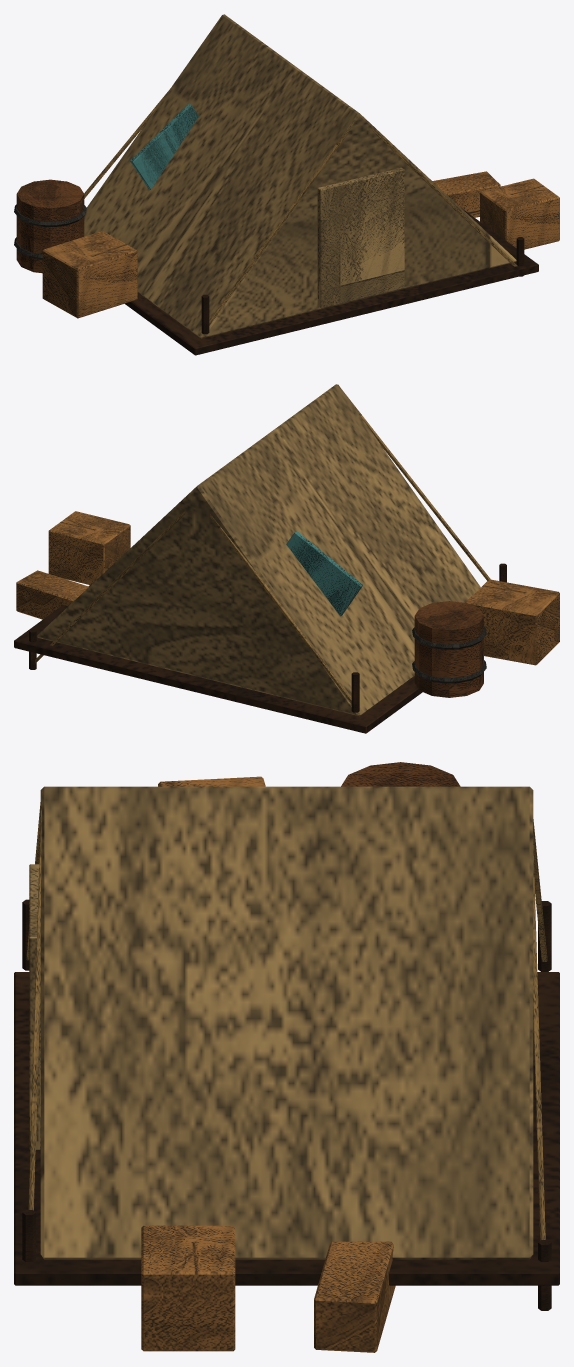
File: working_camp.glb
3 views of the same model, one above another, from view 1: azimuth 30°, elevation 25°; view 2: azimuth 150°, elevation 25°; view 3: azimuth 270°, elevation 25° (orthographic). The views are drawn at different scales.
Visible parts, largest first — view 1: working_camp; view 2: working_camp; view 3: working_camp.
Boxes of the visible parts, x1,y1,x2,y2 form: working_camp: [14, 14, 559, 355]; working_camp: [14, 384, 559, 733]; working_camp: [14, 762, 559, 1352].
Bounding box in the file's own units: 6.61 × 2.79 × 3.6.
1 material, 1 textured.
